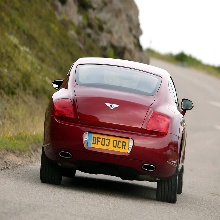no damage: (40, 56, 194, 203)
